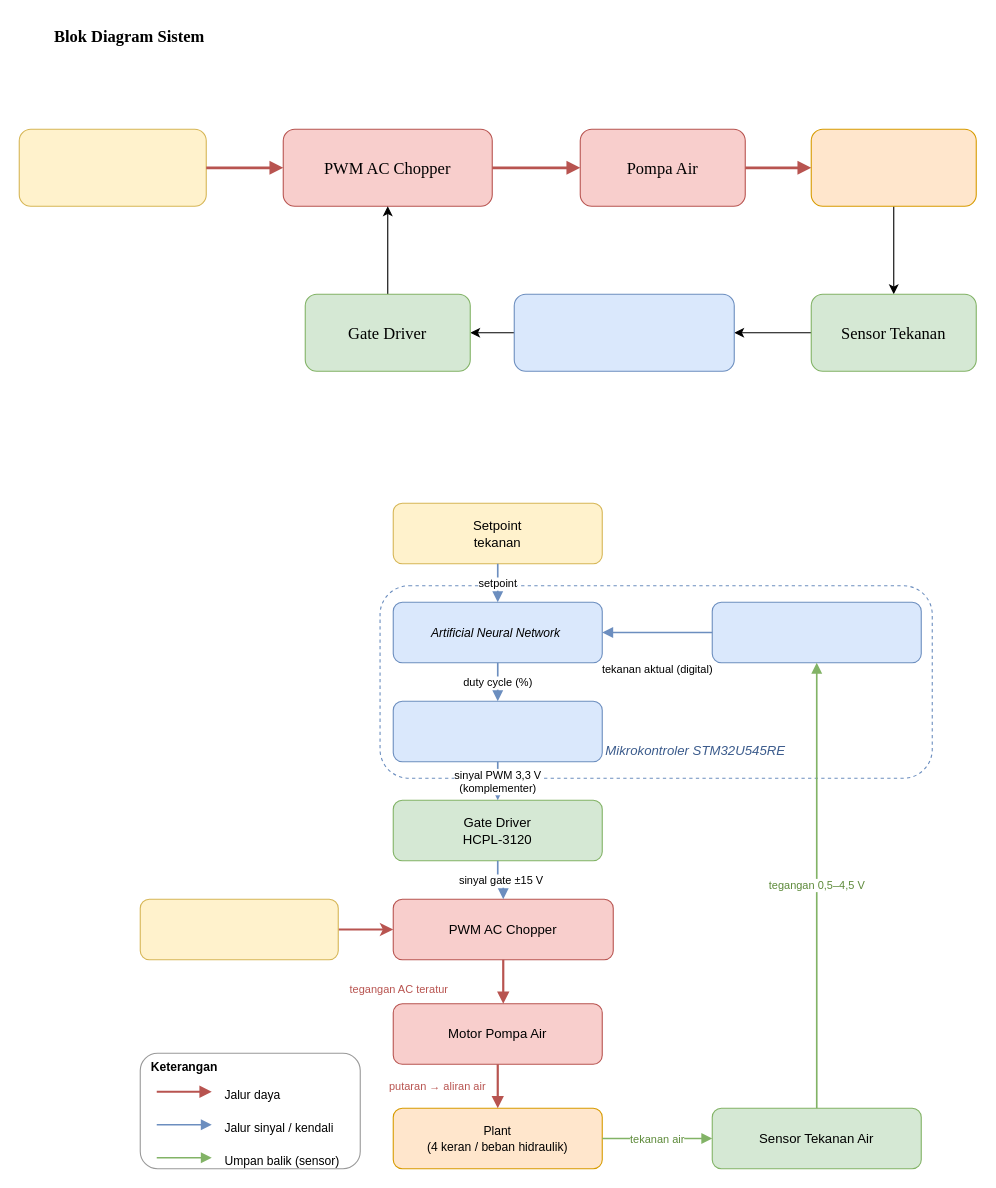
This 996x1188 diagram has some shape labels left out. Here are the shapes that lost their labels. From the top down, the centre of each, then its label:
point (112, 167): Inverter
point (893, 167): Keran Air
point (623, 332): STM32 (Neural Network)
point (816, 632): ADC STM32
point (497, 731): Pembangkit PWM (TIM1 + dead time)
point (238, 929): Sumber AC 220 V (PLN)
